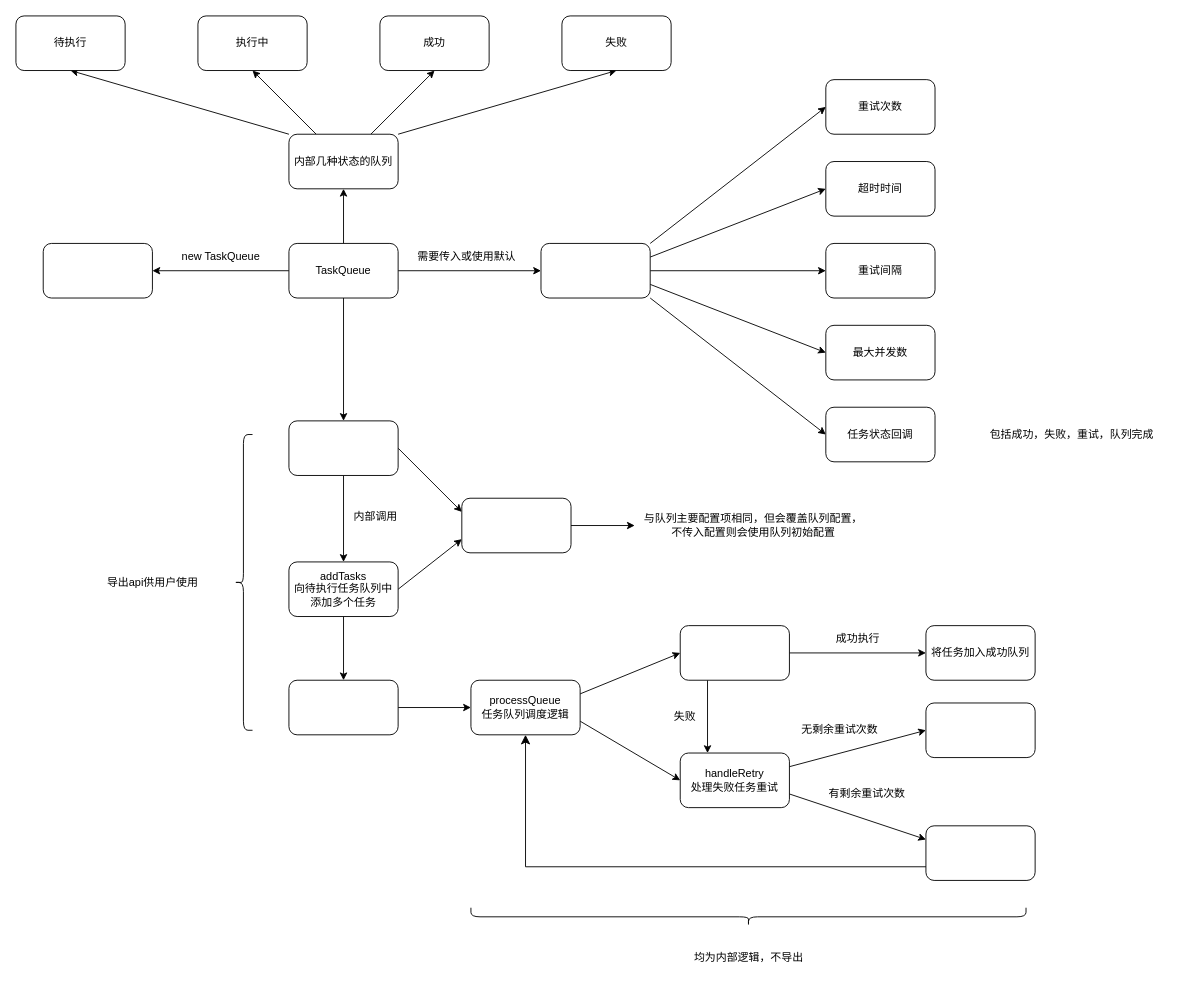
Image size: 1178x987. Some labels were removed from this diagram. The centre of each missing label's shape, as x and y in pixels:
addTask 添加单个任务: (343,447)
executeTask 执行具体的单个任务: (734,652)
start 开始执行待执行队列: (343,707)
主要配置项: (595,270)
将任务加入失败队列: (980,730)
将任务重新压入 待执行队列: (980,852)
构建任务对象: (516,525)
用户使用: (97,270)
